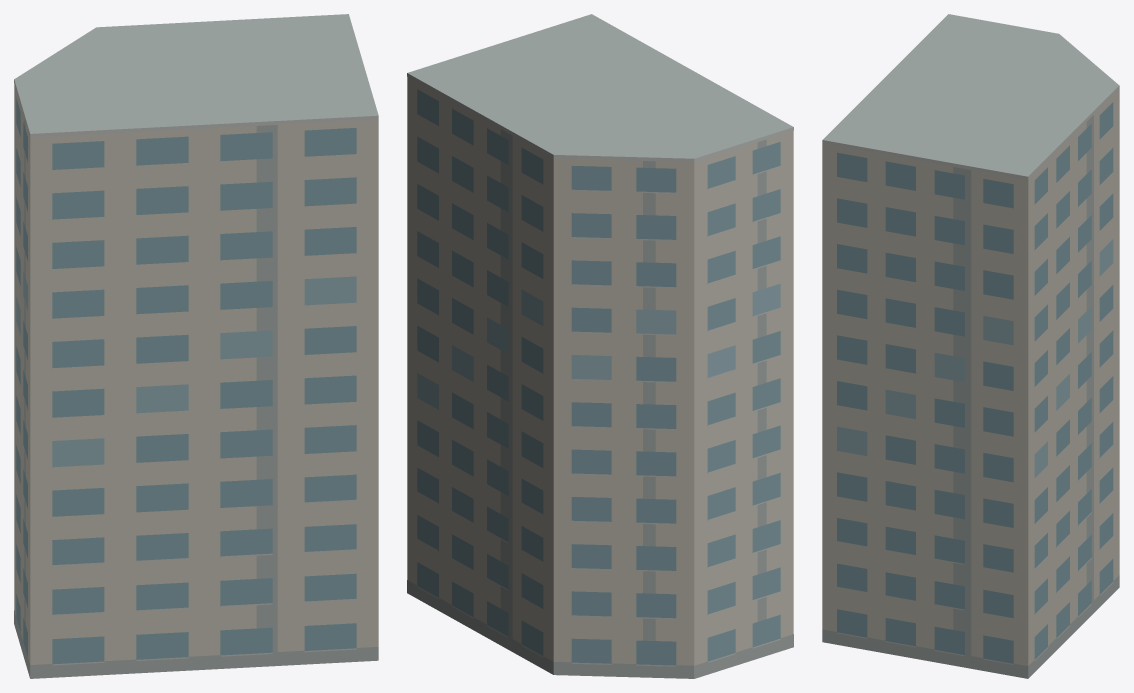
The model's file is residential-392a5035-7ee1-40cd-be38-a660d176dde8.glb.
3 views of the same model, side by side, from view 1: azimuth 30°, elevation 25°; view 2: azimuth 150°, elevation 25°; view 3: azimuth 270°, elevation 25° (orthographic). The views are drawn at different scales.
Visible parts, largest first — view 1: residential-392a5035-7ee1-40cd-be38-a660d176dde8.tmp; view 2: residential-392a5035-7ee1-40cd-be38-a660d176dde8.tmp; view 3: residential-392a5035-7ee1-40cd-be38-a660d176dde8.tmp.
Part boxes in pixels (<box>): residential-392a5035-7ee1-40cd-be38-a660d176dde8.tmp: <box>14,14,378,678</box>; residential-392a5035-7ee1-40cd-be38-a660d176dde8.tmp: <box>407,14,793,678</box>; residential-392a5035-7ee1-40cd-be38-a660d176dde8.tmp: <box>822,14,1119,678</box>.
Bounding box in the file's own units: 23.63 × 34 × 18.23.
